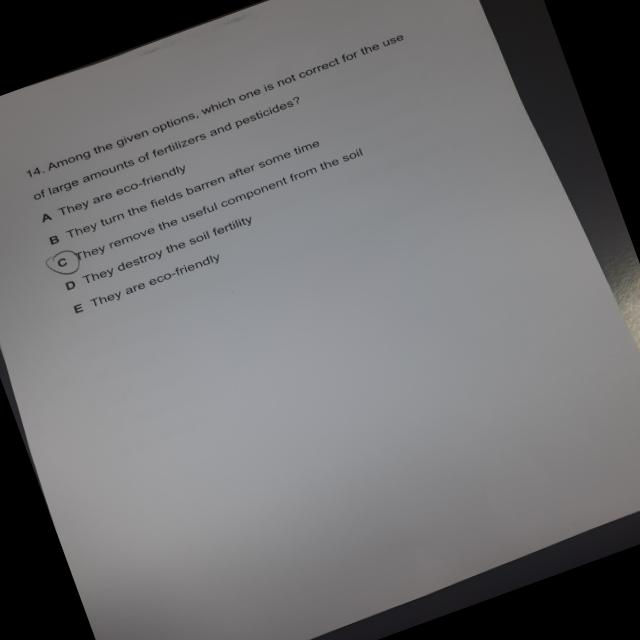C: (44, 245, 88, 283)
